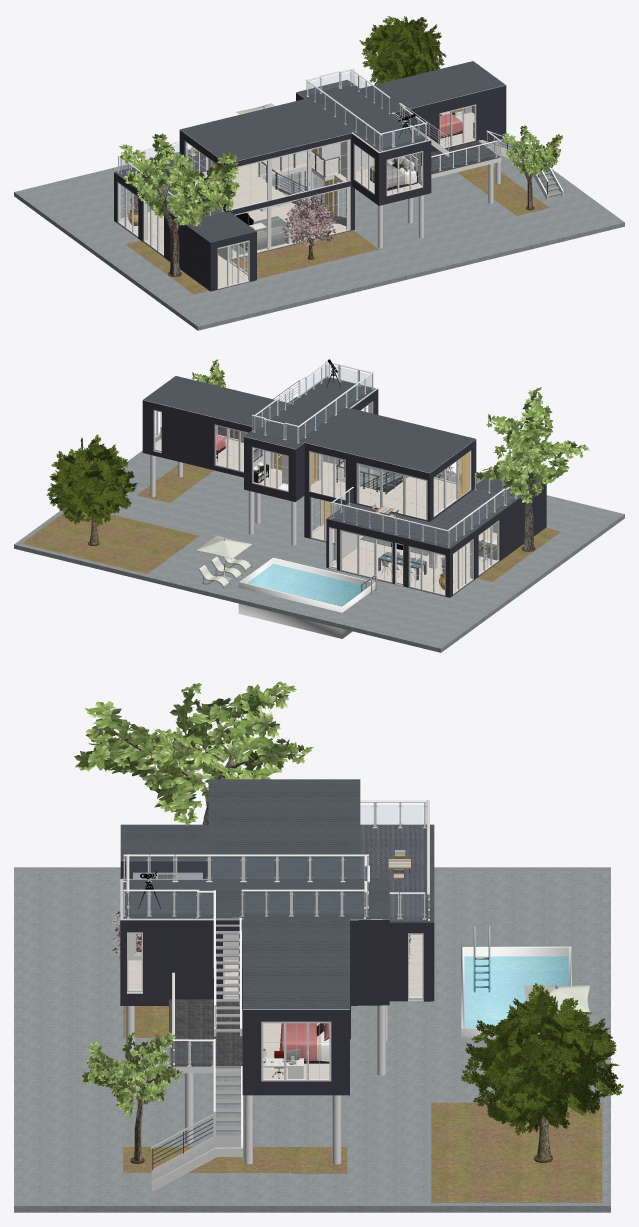
File: Container.glb
The picture shows the model from 3 angles, top to bottom: view 1: azimuth 30°, elevation 25°; view 2: azimuth 150°, elevation 25°; view 3: azimuth 270°, elevation 25°; orthographic projection. The views are drawn at different scales.
Parts seen in each view (by area): view 1: Base_Outdoor, Top_Floor, Second_ExteriorWall, Second_Floor, Tree, Cube, Tree.001, Base_ExteriorWall, Second_Windows, Base_Windows, Top_Railing, Base_Founding (+10 smaller); view 2: Base_Outdoor, Top_Floor, Second_ExteriorWall, Second_Floor, Tree, Tree.001, Cube, Base_Pool, Base_ExteriorWall, Second_Windows, Second_Railing_Exterior, Base_Windows (+9 smaller); view 3: Base_Outdoor, Top_Floor, Tree, Second_ExteriorWall, Tree.001, Second_Floor, Cube, Top_Railing, Base_Founding, Base_Pool, Second_Railing_Exterior, Tree.003 (+7 smaller).
Part boxes in pixels (x1,y1,x2,y2): Base_Outdoor: [22, 108, 616, 323]; Top_Floor: [180, 61, 505, 160]; Second_ExteriorWall: [179, 85, 506, 214]; Second_Floor: [114, 112, 501, 242]; Tree: [119, 133, 239, 276]; Cube: [14, 140, 624, 330]; Tree.001: [359, 16, 446, 84]; Base_ExteriorWall: [114, 172, 354, 291]; Second_Windows: [185, 104, 476, 210]; Base_Windows: [117, 170, 350, 289]; Top_Railing: [306, 68, 427, 151]; Base_Founding: [298, 130, 563, 248]; Base_Outdoor: [22, 453, 616, 645]; Top_Floor: [143, 376, 475, 472]; Second_ExteriorWall: [142, 389, 476, 521]; Second_Floor: [155, 426, 543, 548]; Tree: [474, 387, 589, 551]; Tree.001: [46, 434, 137, 545]; Cube: [14, 450, 624, 652]; Base_Pool: [238, 557, 375, 638]; Base_ExteriorWall: [304, 482, 546, 597]; Second_Windows: [153, 401, 471, 520]; Second_Railing_Exterior: [273, 380, 517, 547]; Base_Windows: [310, 465, 499, 595]; Base_Outdoor: [22, 871, 602, 1202]; Top_Floor: [123, 779, 389, 1008]; Tree: [74, 681, 313, 825]; Second_ExteriorWall: [120, 919, 389, 1095]; Tree.001: [461, 983, 623, 1162]; Second_Floor: [120, 824, 434, 1078]; Cube: [14, 867, 610, 1212]; Top_Railing: [122, 854, 369, 918]; Base_Founding: [125, 1005, 387, 1190]; Base_Pool: [461, 946, 571, 1037]; Second_Railing_Exterior: [168, 800, 429, 1066]; Tree.003: [82, 1032, 182, 1163].
Bounding box in the file's own units: 27.46 × 9.53 × 20.69.
Materials: 96 (74 with a texture image).
